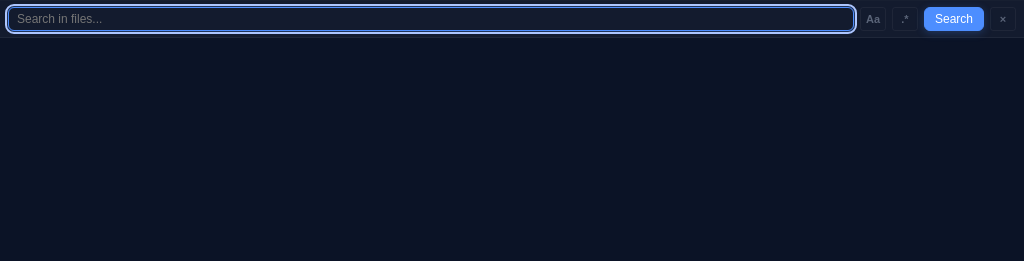
SearchPanel › shows "No results found" when search returns empty
This screenshot has width=1024, height=261.
Type "nonexistent" into the field with test id "search-input".
click(431, 19); type("nonexistent")  # box [8,7,854,31]
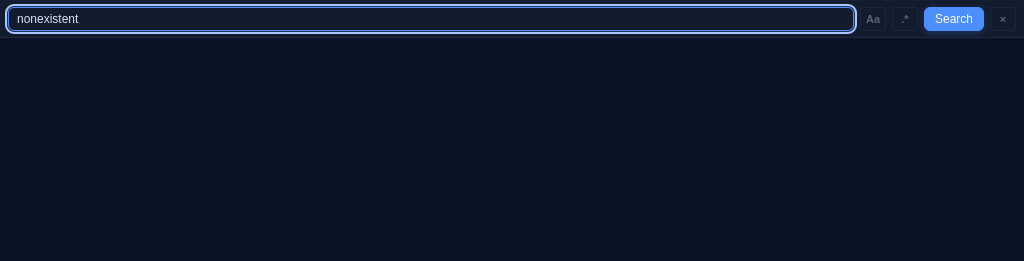
Click the button with test id "search-submit".
click(954, 19)  # box [924,7,984,31]
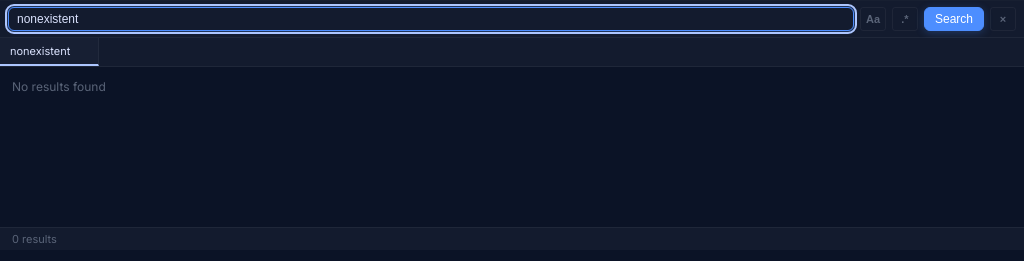
Check: the text "No results found" is shown, box [12,79,106,94]
